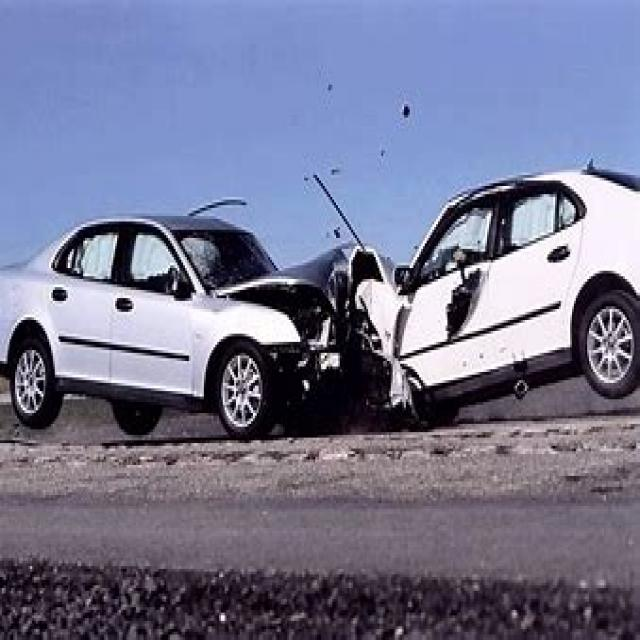Accident: (55, 123, 577, 477)
